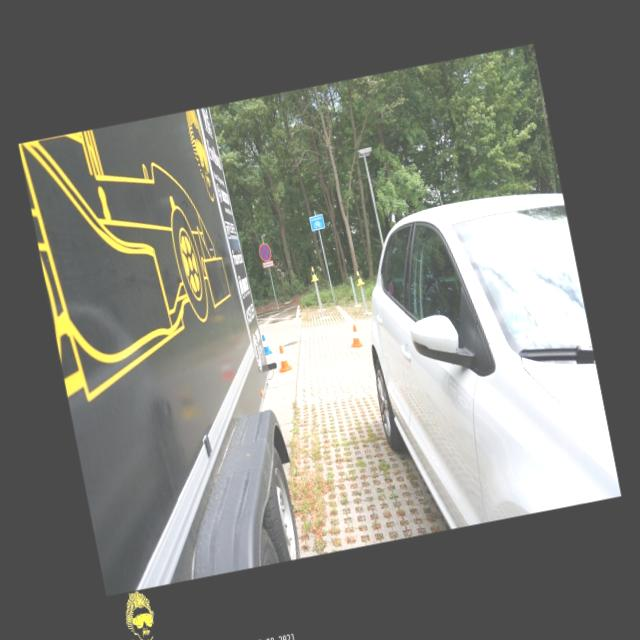blue_cone: (260, 332, 272, 356)
orange_cone: (274, 344, 292, 373), (347, 324, 363, 348)
yellow_cone: (354, 270, 365, 286), (308, 266, 318, 282)
